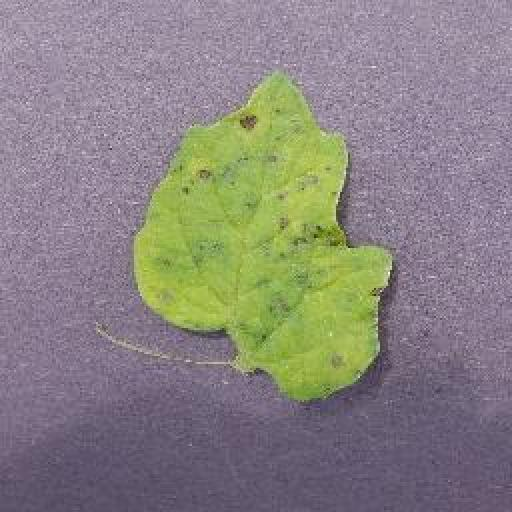disease_tomato: (135, 70, 395, 400)
